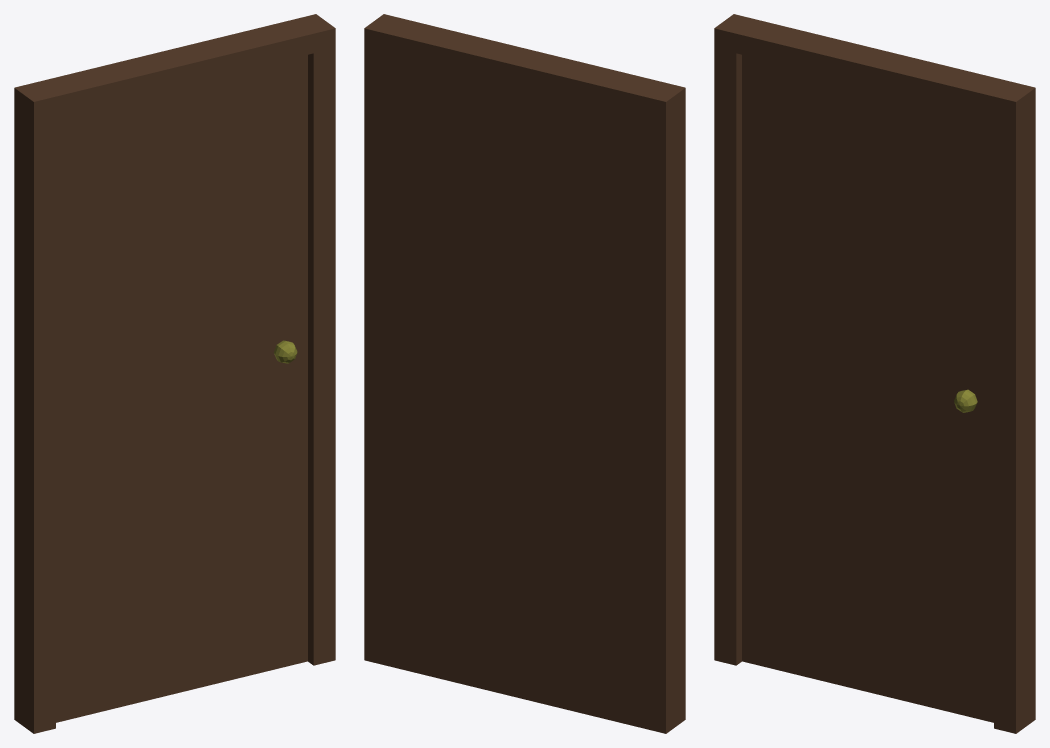
The model's file is door.glb.
The picture shows the model from 3 angles, left to right: view 1: azimuth 30°, elevation 25°; view 2: azimuth 150°, elevation 25°; view 3: azimuth 330°, elevation 25°; orthographic projection.
Visible parts, largest first — view 1: Door; view 2: Door; view 3: Door.
Part boxes in pixels (box(x1,y1,x2,y2)): Door: box(14, 14, 335, 733); Door: box(364, 14, 685, 733); Door: box(714, 14, 1035, 733).
Size of the model in its own units: 0.8 by 1.6 by 0.1176.
